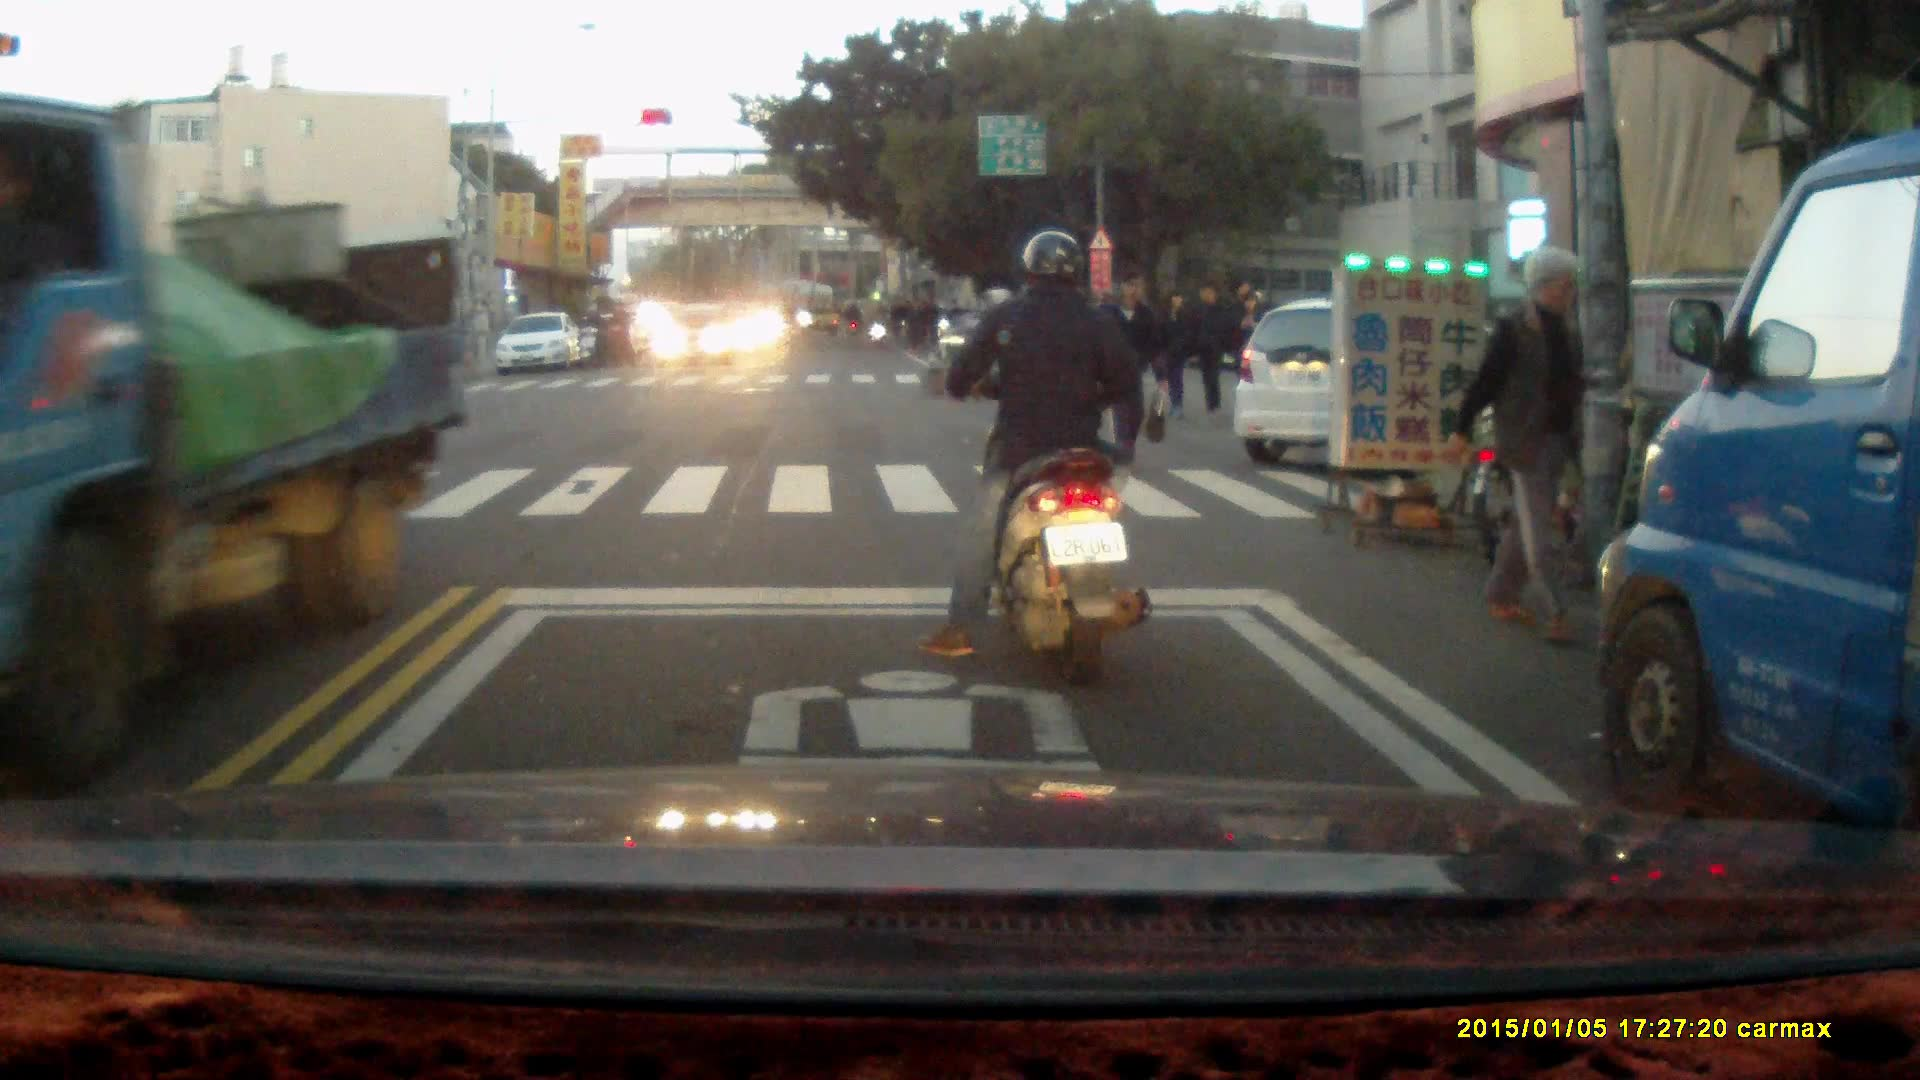pedestrian: (1458, 241, 1595, 639), (1089, 264, 1169, 473), (1187, 281, 1227, 428), (1155, 283, 1194, 424), (1232, 292, 1268, 399)
rider: (917, 229, 1150, 692), (921, 284, 1026, 403), (577, 301, 612, 372), (601, 296, 636, 366), (862, 296, 890, 349)
vehicle: (1, 90, 471, 797), (1596, 120, 1920, 901), (1233, 303, 1533, 462), (493, 311, 584, 378), (657, 299, 743, 367)
